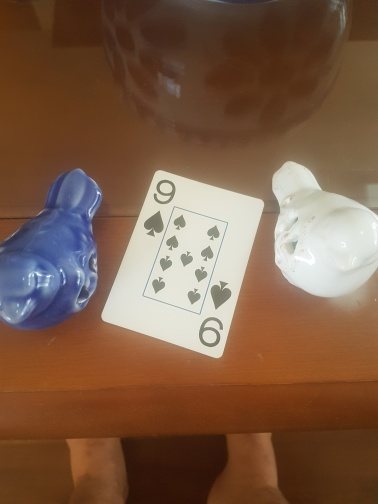nine: (102, 168, 264, 357)
